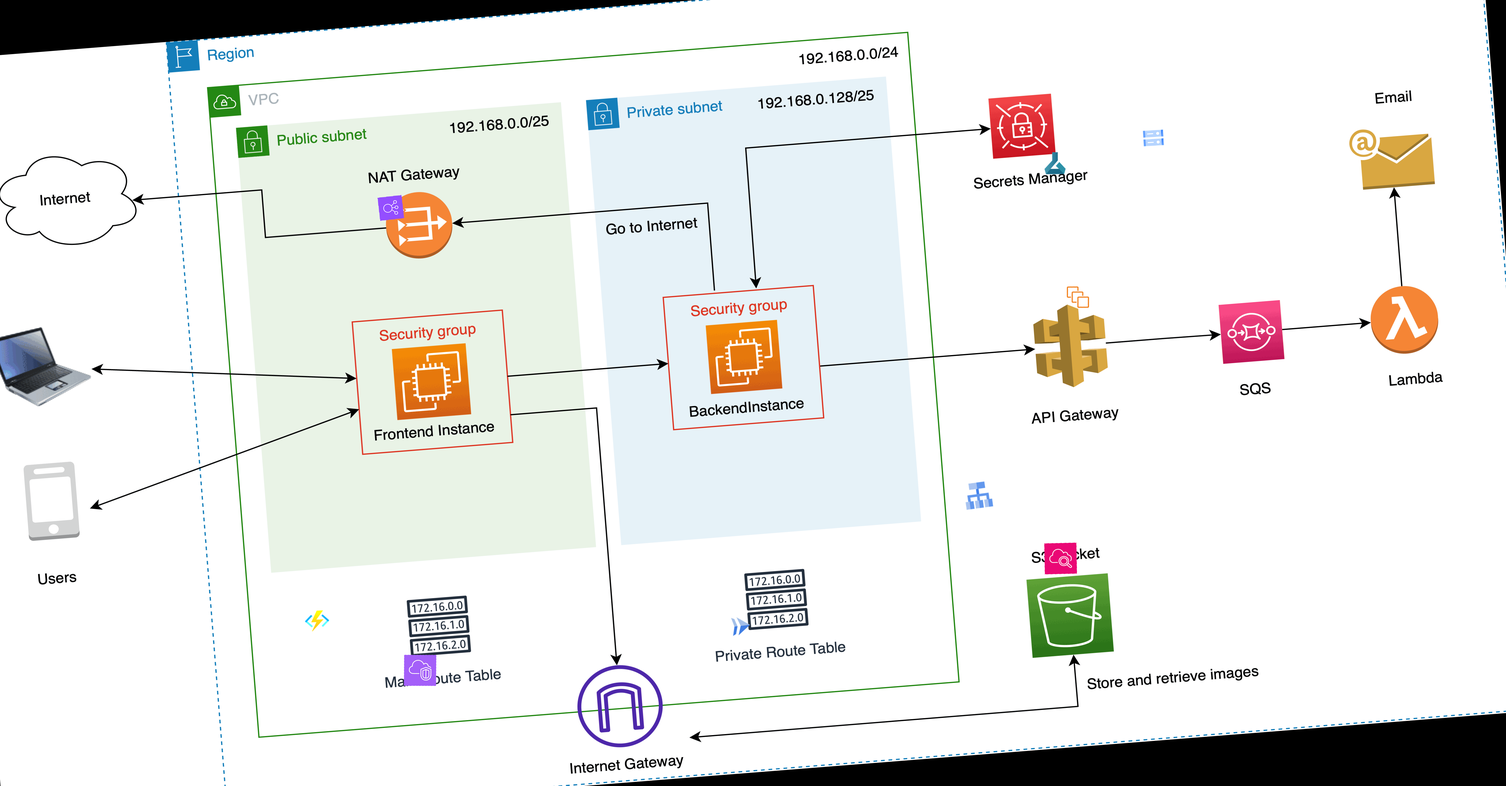aws_amazon_cloudwatch: (1042, 541, 1079, 576)
aws_amazon_virtual_private_cloud: (401, 652, 439, 689)
aws_ec2_instances: (1064, 284, 1092, 310)
aws_elastic_load_balancing: (377, 195, 404, 221)
azure_function_apps: (303, 608, 330, 634)
azure_machine_learning: (1041, 150, 1069, 177)
gcp_cloud_load_balancing: (960, 477, 996, 513)
gcp_cloud_run: (727, 613, 754, 639)
gcp_cloud_storage: (1140, 125, 1167, 151)
